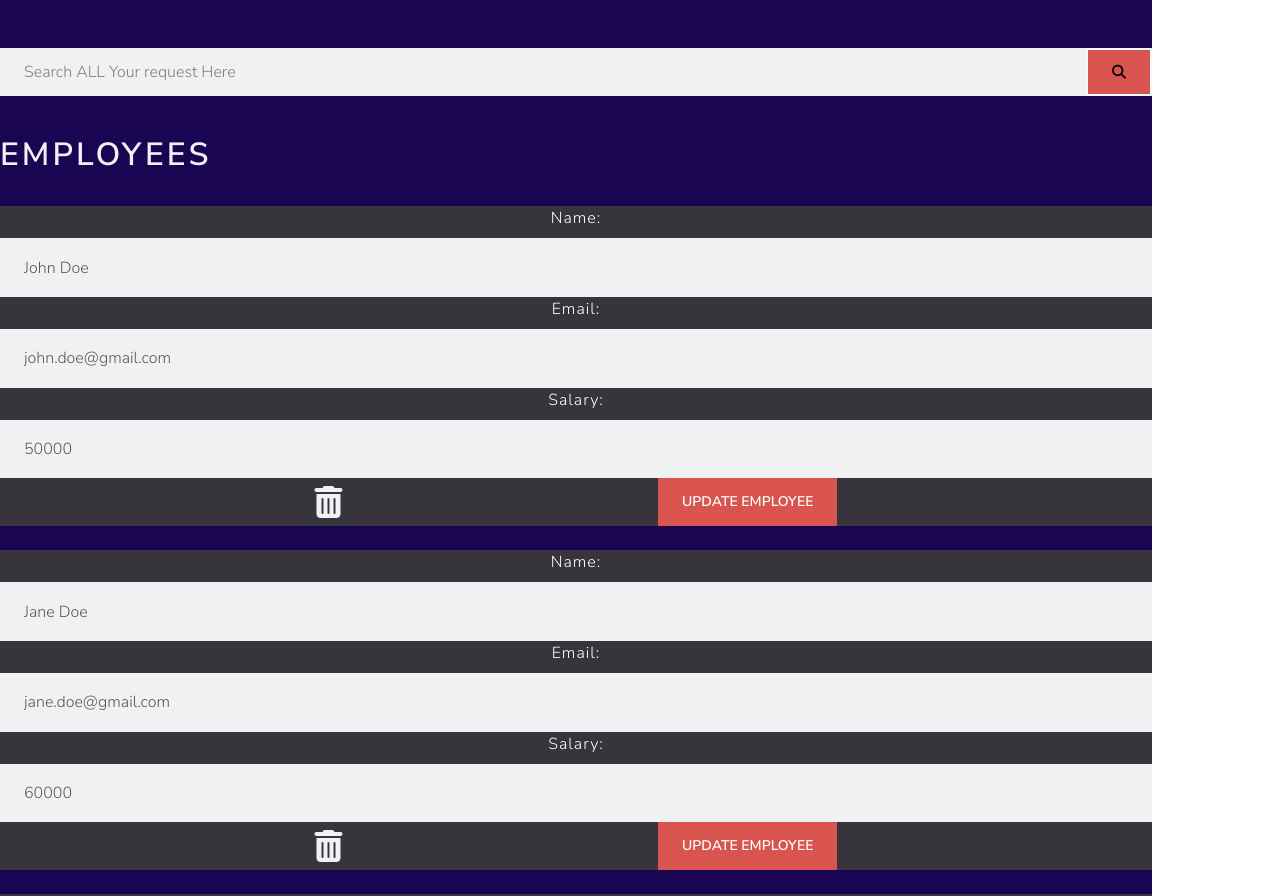
it: Employee Component › opens update modal
Click the button with test id "update-employee-button-1": (748, 502) [658, 478, 837, 526]
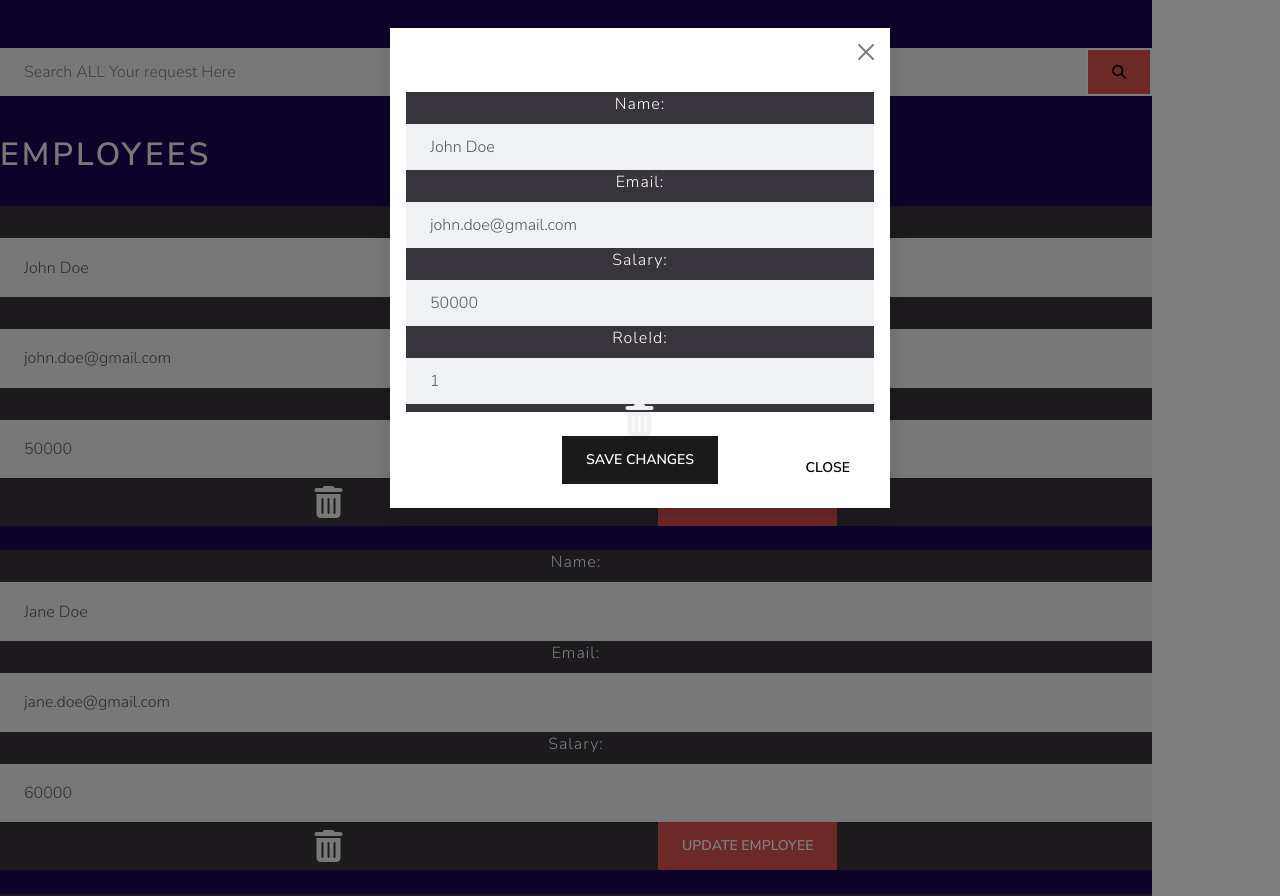
Expected: the field named "name" is shown, [0, 48, 1086, 96]
Result: the field labelled "Email:" is shown at [406, 202, 874, 248]
